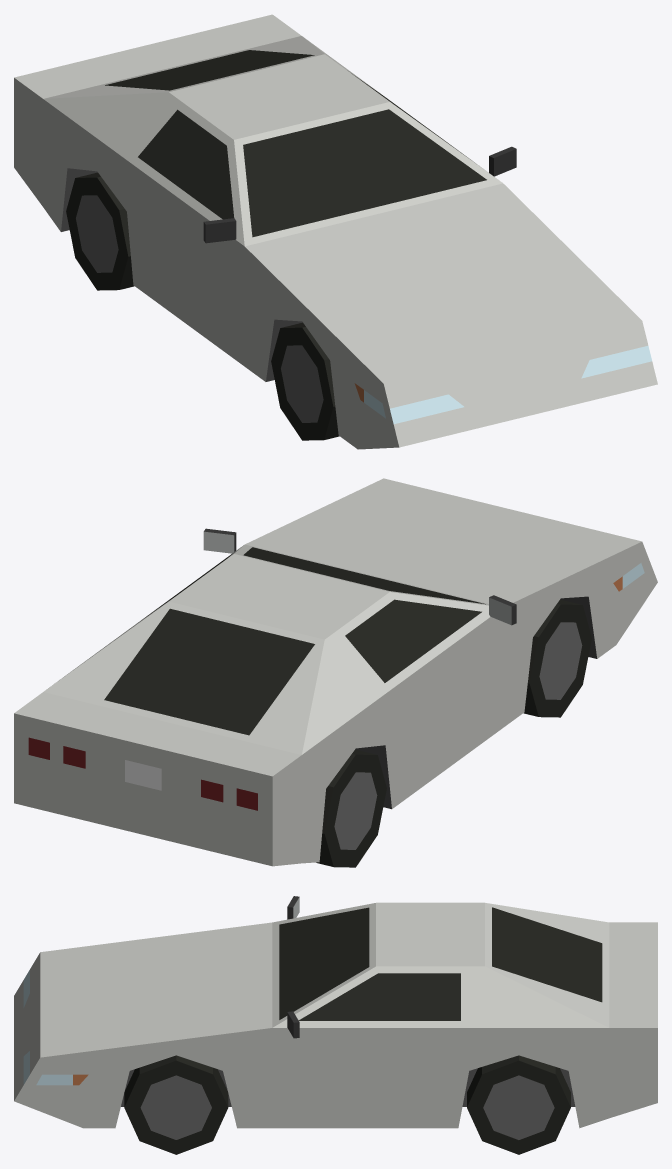
Rendered from Veh_Sports_Car_01_White.glb.
3 views of the same model, one above another, from view 1: azimuth 30°, elevation 25°; view 2: azimuth 150°, elevation 25°; view 3: azimuth 270°, elevation 25° (orthographic). The views are drawn at different scales.
Parts seen in each view (by area): view 1: Sports_Car_01_White, Wheel_RR, Wheel_FR; view 2: Sports_Car_01_White, Wheel_RR, Wheel_FR; view 3: Sports_Car_01_White, Wheel_RL, Wheel_FL.
Part boxes in pixels (<box>): Sports_Car_01_White: <box>14,14,657,449</box>; Wheel_RR: <box>66,172,134,290</box>; Wheel_FR: <box>271,322,339,440</box>; Sports_Car_01_White: <box>14,478,657,866</box>; Wheel_RR: <box>316,749,386,867</box>; Wheel_FR: <box>523,599,591,717</box>; Sports_Car_01_White: <box>14,896,657,1128</box>; Wheel_RL: <box>467,1055,570,1154</box>; Wheel_FL: <box>124,1055,228,1154</box>.
Size of the model in its own units: 1.13 by 0.6973 by 2.43.
Materials: 1 (1 with a texture image).
